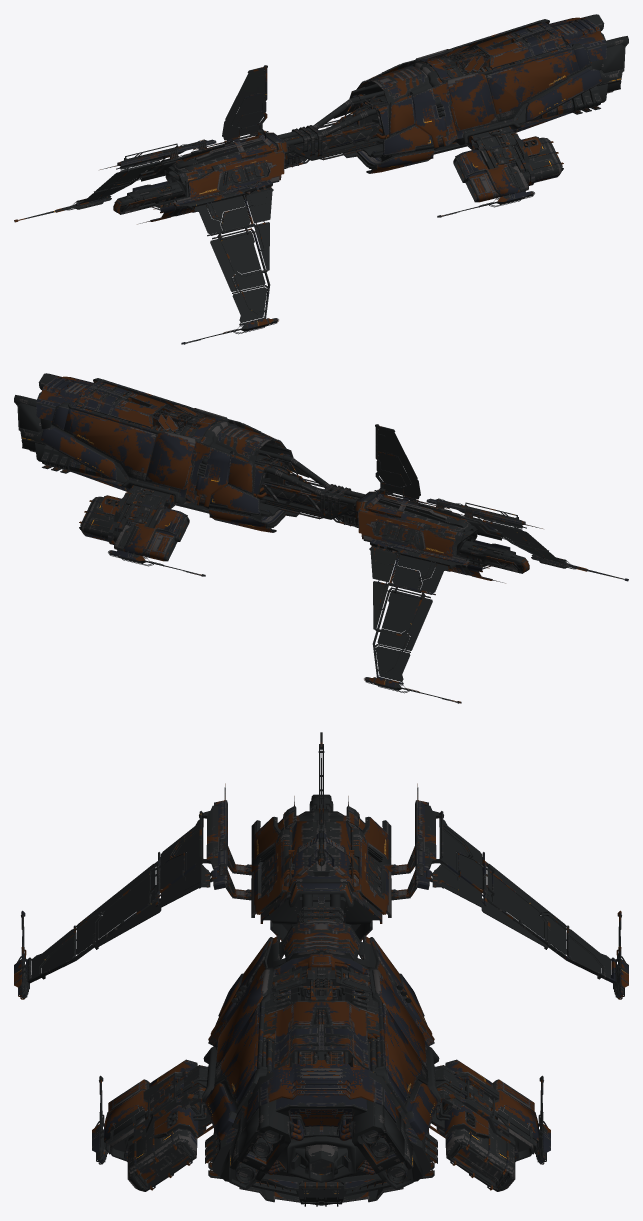
The model's file is scythe.glb.
The picture shows the model from 3 angles, top to bottom: view 1: azimuth 30°, elevation 25°; view 2: azimuth 150°, elevation 25°; view 3: azimuth 270°, elevation 25°; orthographic projection. The views are drawn at different scales.
Parts seen in each view (by area): view 1: Scythe; view 2: Scythe; view 3: Scythe.
Part boxes in pixels (left/top/right/bottom): Scythe: left=14, top=14, right=628, bottom=344; Scythe: left=14, top=373, right=628, bottom=703; Scythe: left=14, top=732, right=628, bottom=1206.
Size of the model in its own units: 340 by 113 by 197.
1 material, 1 textured.
